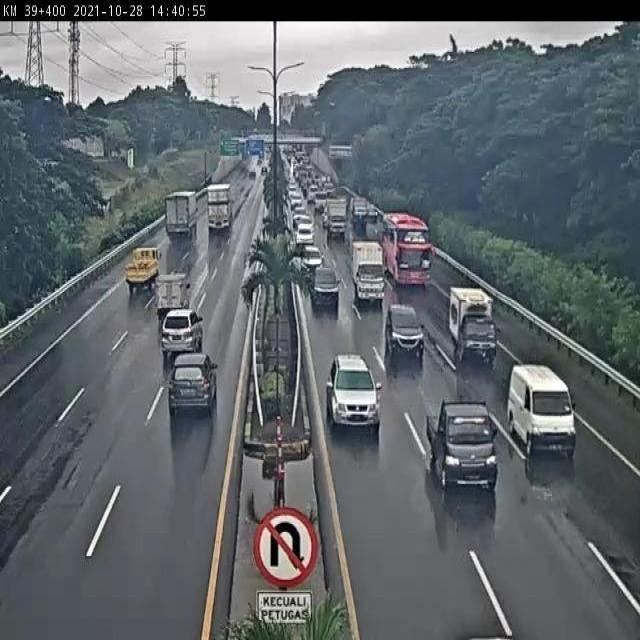bus-l-: (382, 213, 433, 290)
car: (506, 360, 578, 459), (425, 399, 495, 488), (326, 352, 380, 428), (167, 351, 219, 418), (386, 302, 425, 358), (160, 308, 203, 355), (309, 261, 339, 304), (299, 244, 323, 273)
small truck: (124, 248, 161, 293), (154, 272, 191, 317)
truck-m-: (351, 239, 386, 301)
truck-s-: (447, 285, 497, 363)
